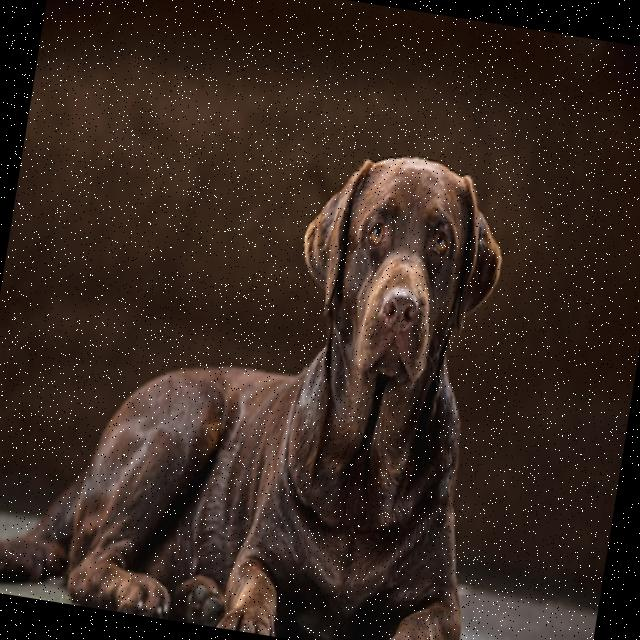Dog: (0, 99, 533, 640)
